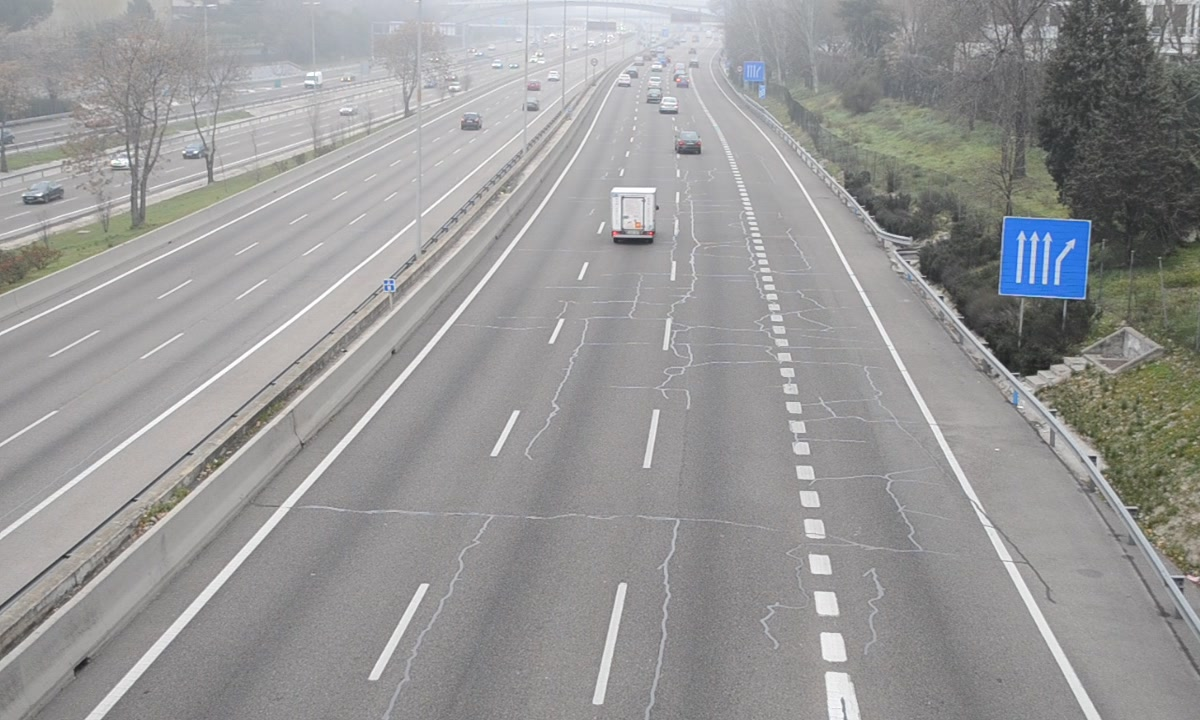car: (673, 129, 703, 154)
small-truck: (610, 187, 659, 240)
